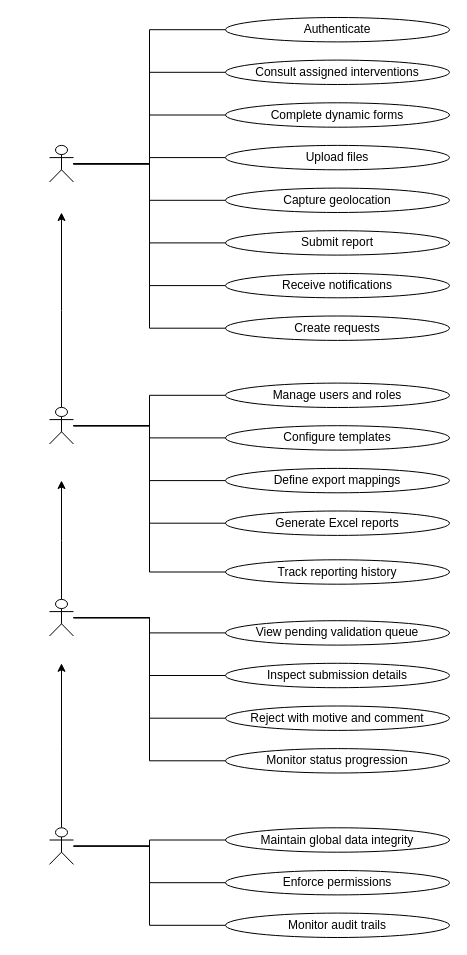
The diagram is 467 pixels wide and 955 high, and some of its shapes have lost their labels. The centre of each missing label's shape, as x and y in pixels:
"FIELD TECHNICIAN" goes at point (61, 163).
"PROJECT COORDINATOR" goes at point (61, 425).
"PROJECT SUPERVISOR" goes at point (61, 617).
"SYSTEM ADMIN" goes at point (61, 845).
